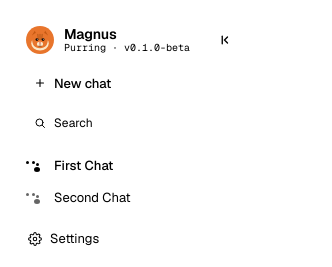
Sidebar › shows rename input when Rename is clicked in context menu
This screenshot has width=332, height=267.
Right-click the text "First Chat" at (84, 166), box [54,157,113,174]
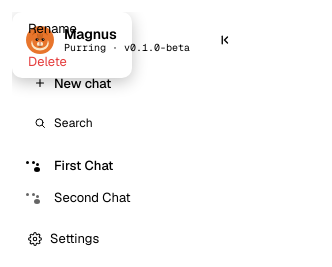
Click the button "Rename" at (72, 28), box [12,12,132,45]
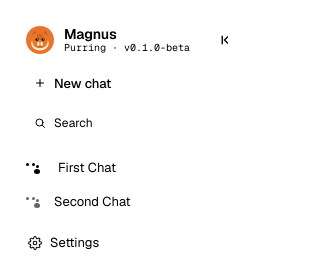
expect the field showing "First Chat" is shown: met, box [54,157,247,178]
